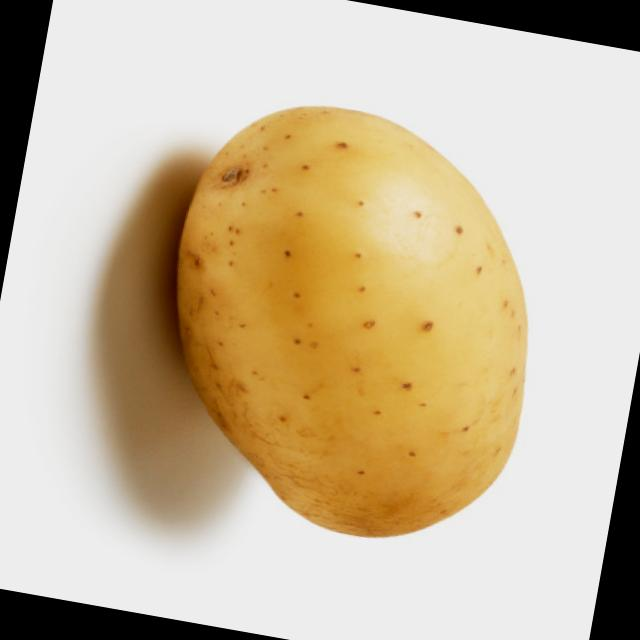potato: (131, 84, 566, 562)
